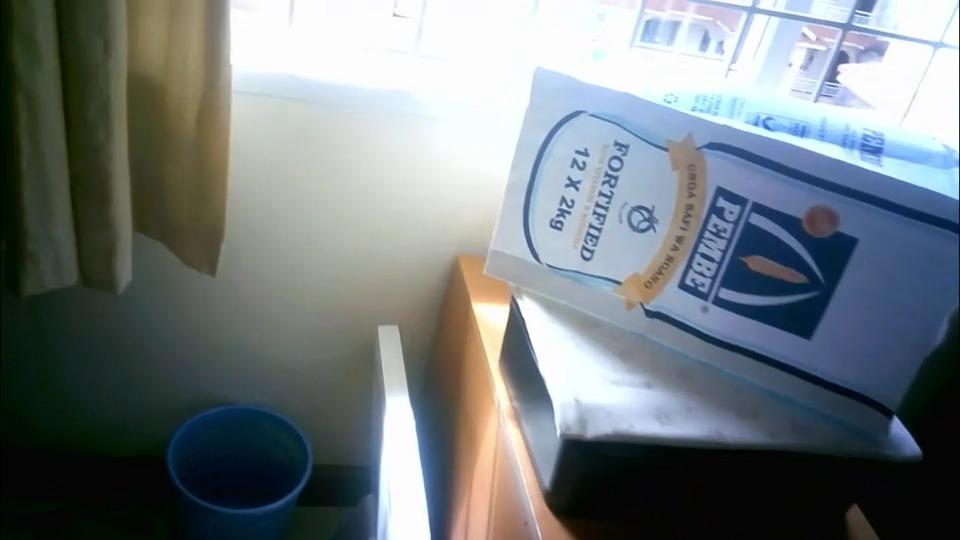wheat_flour_blue_label: (482, 51, 956, 437)
